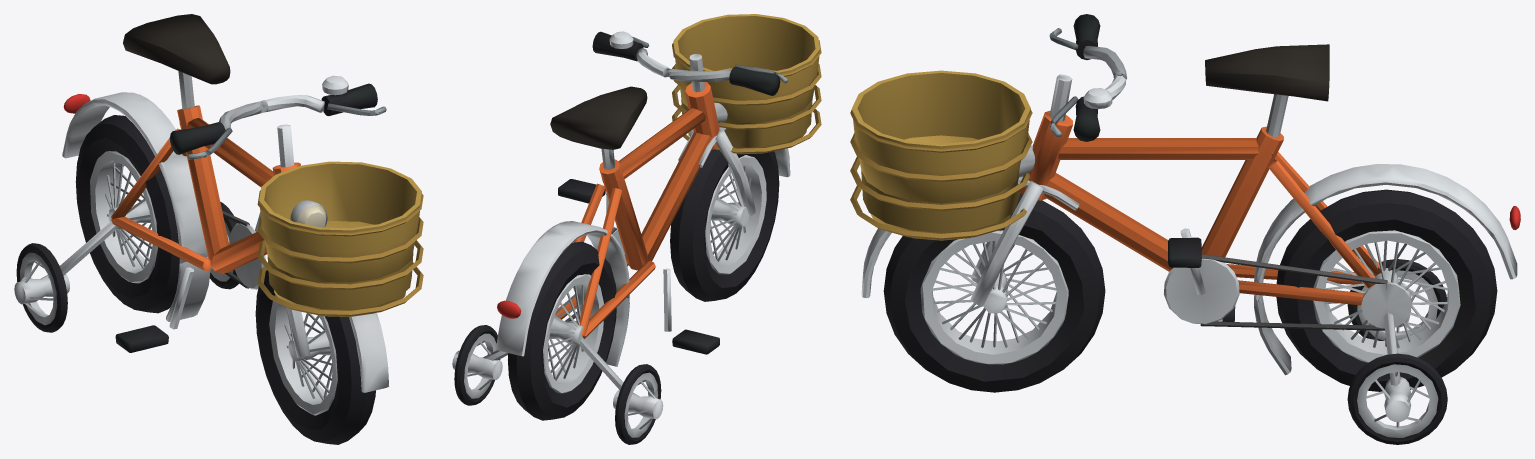
Rendered from veh-kidsBike.glb.
3 views of the same model, side by side, from view 1: azimuth 30°, elevation 25°; view 2: azimuth 150°, elevation 25°; view 3: azimuth 270°, elevation 25° (orthographic). The views are drawn at different scales.
Visible parts, largest first — view 1: body, wheel1, wheel0; view 2: body, wheel0, wheel1; view 3: body, wheel0, wheel1.
Boxes of the visible parts, bbox=[...] form: body: bbox=[14, 14, 423, 392]; wheel1: bbox=[75, 115, 179, 313]; wheel0: bbox=[255, 270, 375, 444]; body: bbox=[452, 14, 821, 444]; wheel0: bbox=[670, 149, 779, 301]; wheel1: bbox=[508, 241, 616, 420]; body: bbox=[850, 14, 1520, 444]; wheel0: bbox=[883, 193, 1105, 392]; wheel1: bbox=[1276, 189, 1497, 391].
Bounding box in the file's own units: 0.5 × 0.6754 × 1.2.
